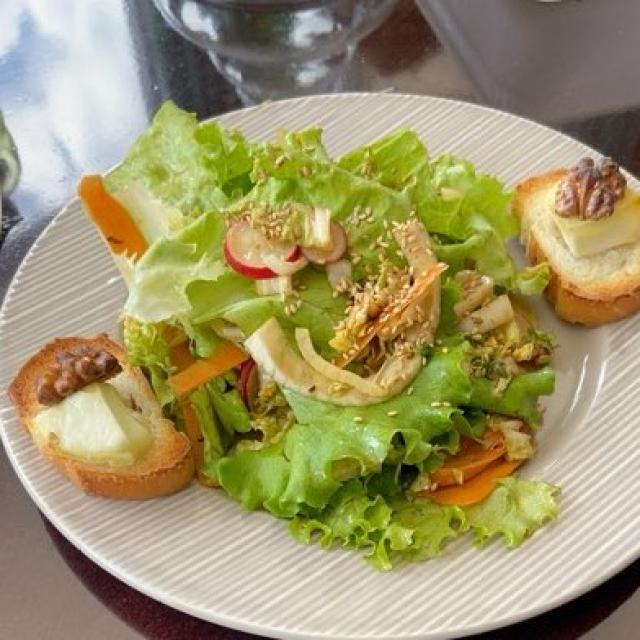bread-white: (17, 153, 634, 512)
goat-cheese-soft: (17, 179, 633, 471)
mixed-vegetables: (94, 176, 521, 517)
salad-leaf-salad-green: (73, 124, 570, 557)
sesame-seeds: (233, 168, 446, 402)
walnut: (36, 158, 634, 402)
